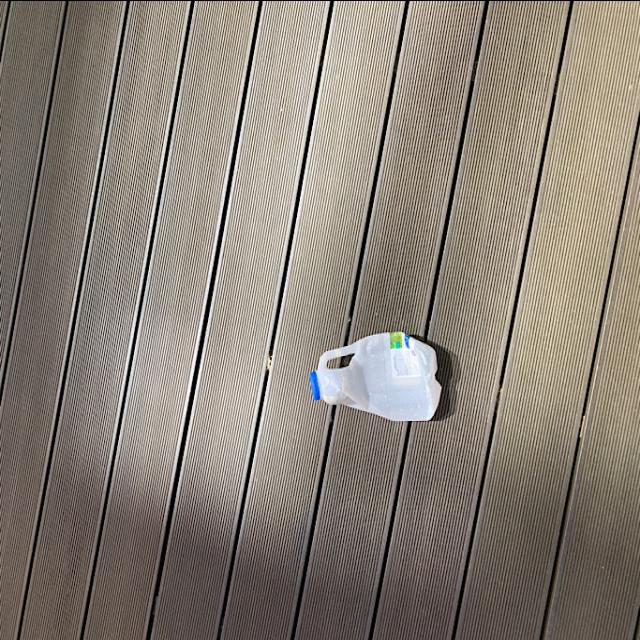HDPEM: (310, 328, 442, 422)
